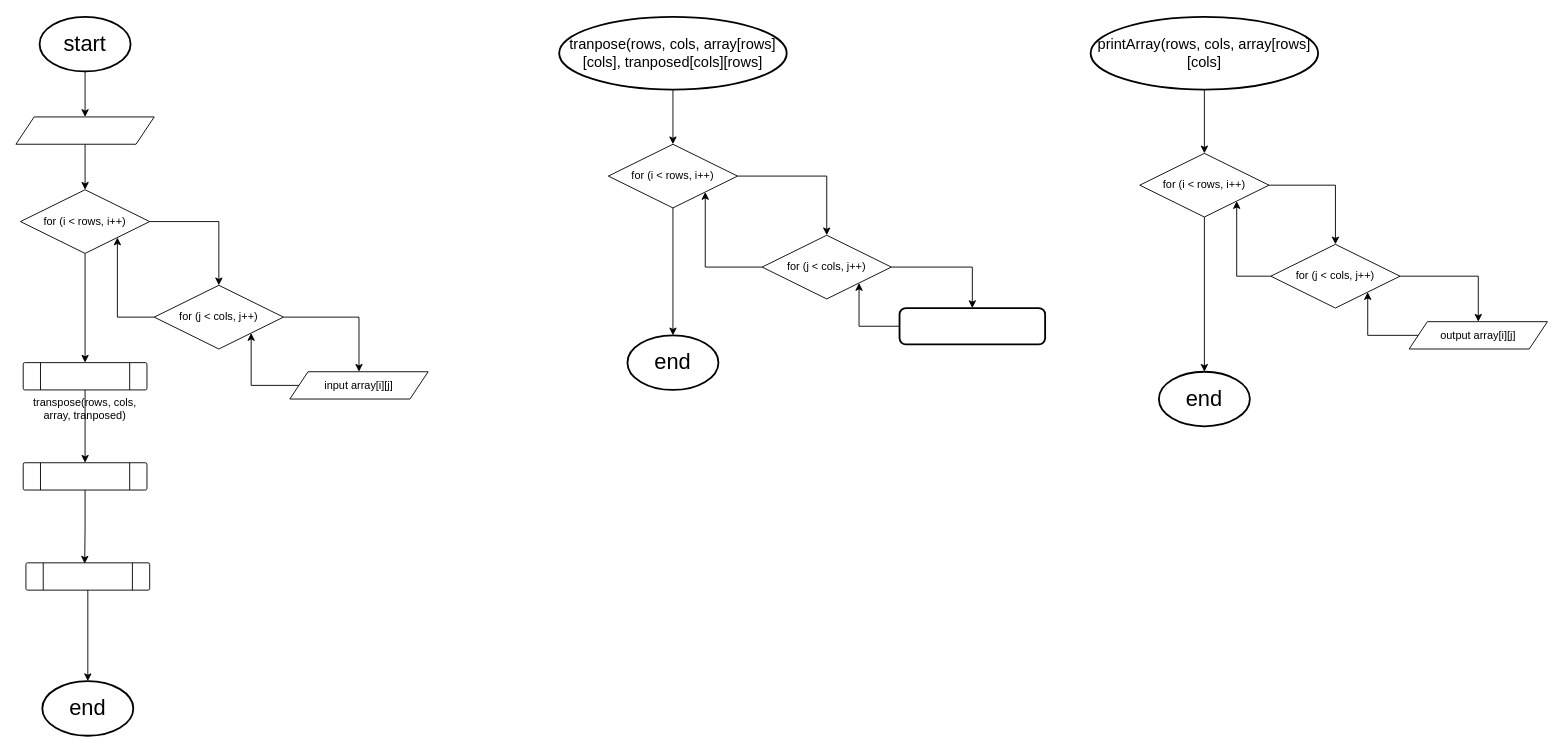
Some shapes in this 1563 by 752 pixel diagram are drawn without their labels. The centre of each missing label's shape, as x and y in pixels:
"input rows, cols" belongs at (84,130).
"printArray(rows, cols, array)" belongs at (84,476).
"printArray(rows, cols, transposed)" belongs at (87,576).
"transposed[j][i] = array[i][j]" belongs at (972,326).
